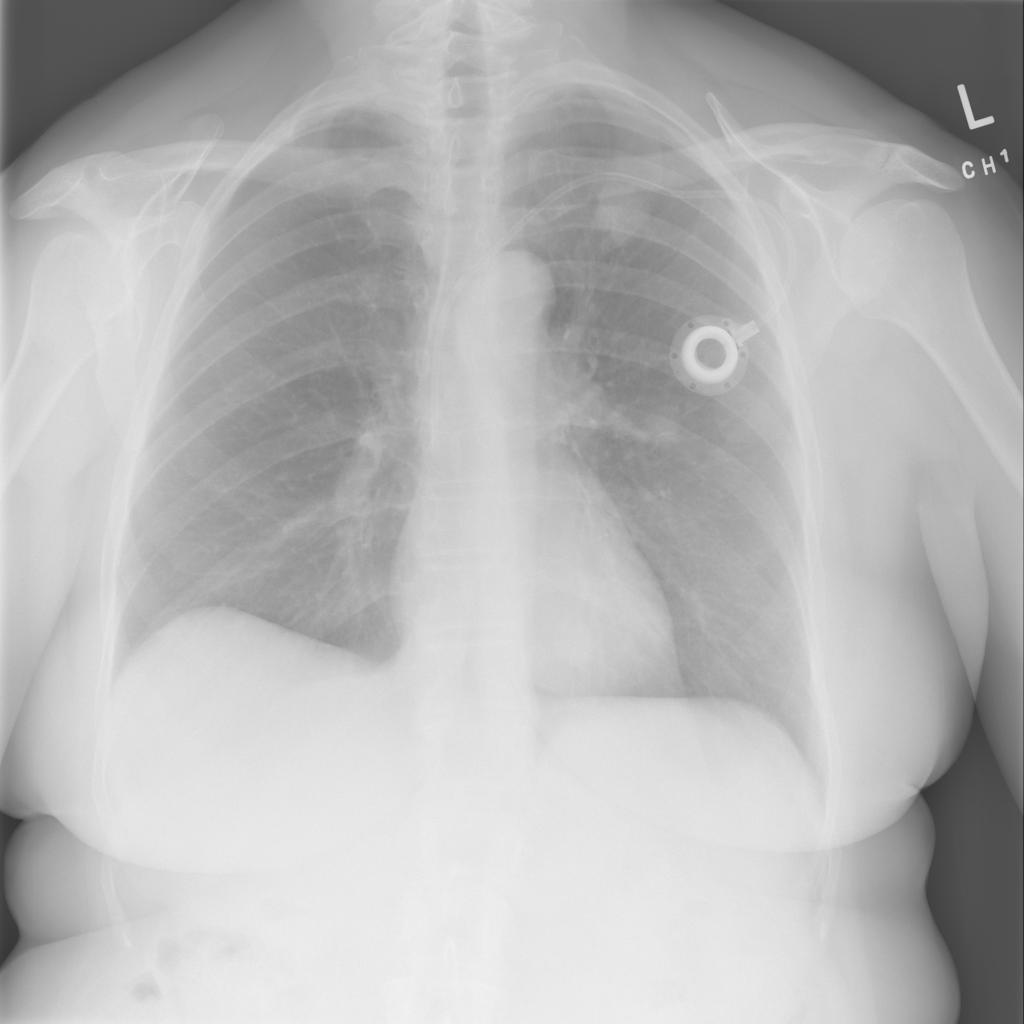Nodule: (77, 118, 94, 130)
